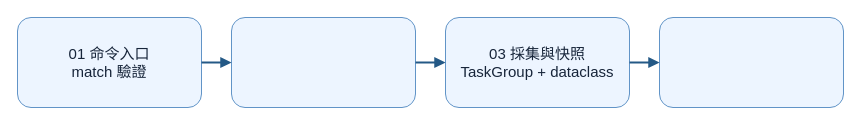
Image size: 861x125. Some labels were removed from this diagram. The shapes that lost their labels are listed below. From the top down, each one's box as (x1, y1, x2, y2) in pixels, then its label:
(230, 16, 416, 108): 02 有界來源 generator + islice
(658, 16, 844, 108): 04 結果交接 contextmanager → JSON
